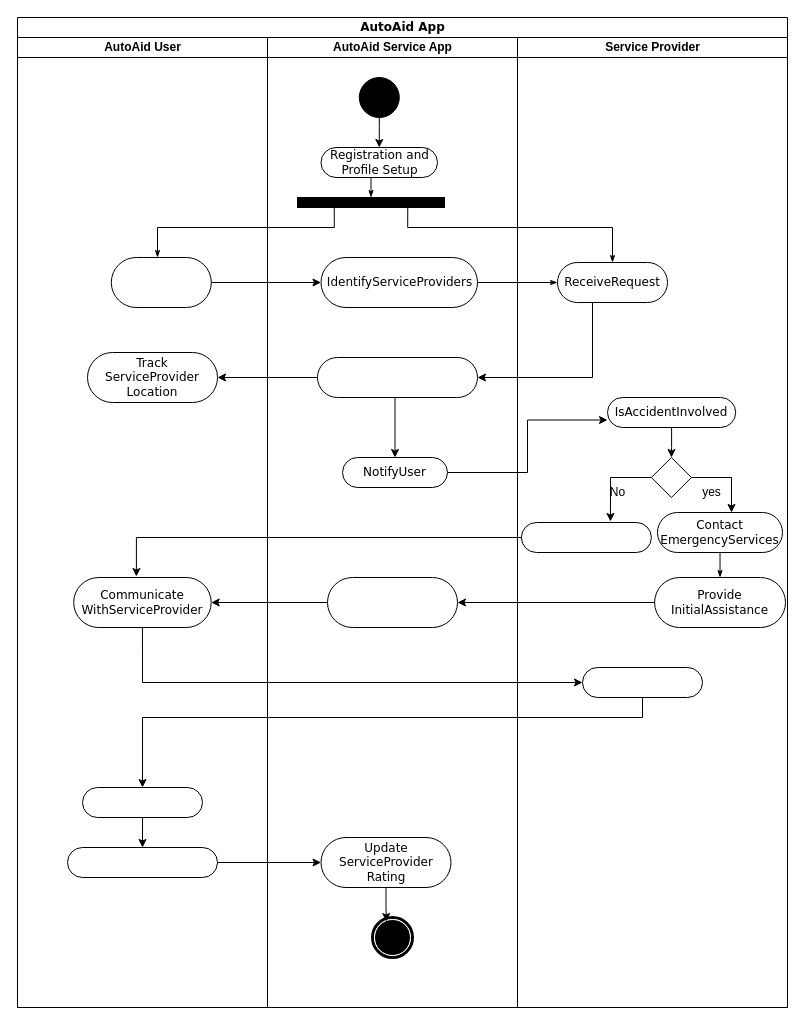
Image size: 805x1025. Some labels were removed from this diagram. Each missing label, with the centre of its shape:
"CompleteService" belongs at [642,682].
"DispatchServiceProvider" belongs at [397,377].
"MakePayment" belongs at [142,802].
"NotifyUser EmergencyServices Contacted" belongs at [392,602].
"ProvideFeedbackRating" belongs at [142,862].
"Request Assistance" belongs at [160,282].
"ResolveIssueOnSite" belongs at [585,537].
